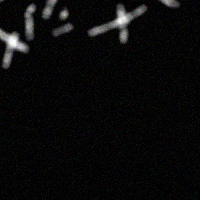chromosome: (88, 4, 148, 37), (0, 20, 29, 53), (42, 0, 82, 18), (2, 31, 19, 69), (116, 4, 127, 44), (24, 3, 35, 40), (52, 23, 73, 36), (148, 0, 180, 7), (59, 6, 69, 20), (0, 0, 24, 2)
